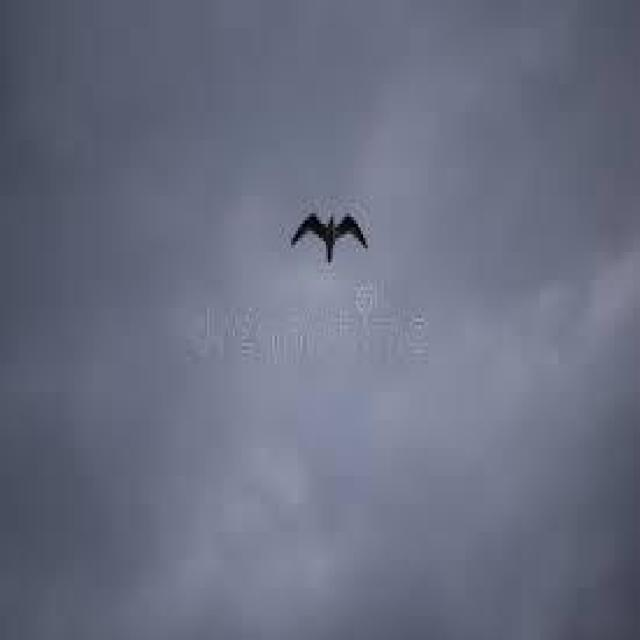bird: (282, 198, 372, 264)
